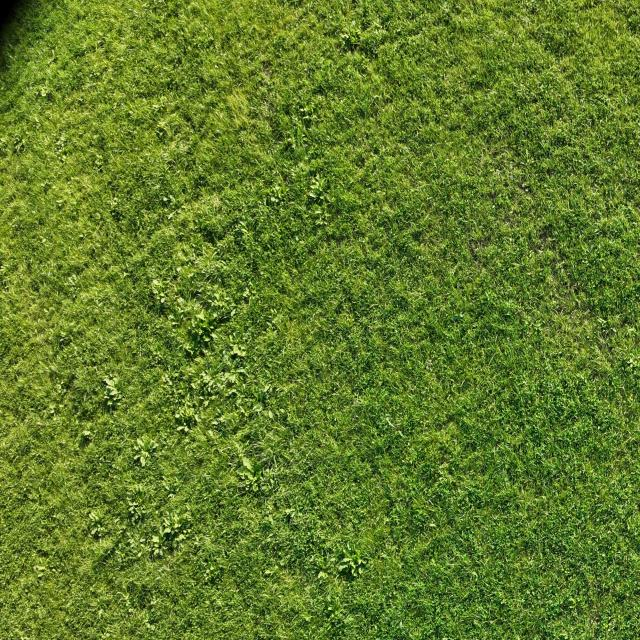rumex: (423, 1, 543, 106), (33, 163, 118, 272), (200, 78, 260, 157), (312, 538, 372, 613), (232, 450, 278, 501), (187, 249, 228, 297), (342, 21, 383, 61), (194, 544, 230, 588), (170, 100, 203, 142), (63, 171, 100, 207), (198, 289, 233, 322), (130, 435, 158, 473), (263, 178, 290, 215), (172, 262, 202, 295), (173, 398, 201, 432), (151, 110, 178, 144), (306, 173, 330, 211), (126, 490, 151, 525), (86, 505, 110, 541), (90, 543, 118, 573), (212, 370, 243, 396), (7, 126, 32, 158), (308, 196, 332, 229), (158, 508, 184, 538), (198, 226, 223, 249), (150, 278, 172, 304), (244, 400, 268, 423), (244, 459, 264, 484), (300, 104, 320, 126), (153, 294, 171, 317), (341, 28, 361, 48), (103, 377, 124, 395), (336, 560, 354, 580), (228, 342, 248, 360), (236, 226, 253, 245), (188, 328, 203, 348), (202, 376, 219, 393), (56, 334, 72, 350), (54, 135, 69, 152), (78, 430, 92, 448), (126, 100, 139, 119), (350, 548, 362, 568), (281, 506, 296, 522), (197, 319, 212, 335), (264, 513, 278, 530), (211, 414, 226, 429), (182, 341, 196, 357), (518, 182, 533, 196), (195, 309, 208, 324), (150, 543, 162, 559), (486, 351, 496, 370), (94, 155, 105, 172), (221, 350, 232, 367), (450, 314, 466, 325), (384, 416, 397, 429), (153, 125, 165, 139), (66, 274, 78, 288), (128, 537, 140, 551), (160, 524, 172, 538), (317, 570, 329, 584), (46, 52, 56, 68), (235, 368, 249, 379), (134, 452, 145, 466), (440, 2, 450, 16), (176, 424, 190, 434), (236, 407, 248, 418), (146, 440, 158, 451), (90, 525, 100, 538), (134, 547, 144, 560), (263, 567, 276, 577), (260, 103, 270, 116), (302, 450, 312, 463), (261, 384, 272, 395), (210, 331, 221, 342), (272, 184, 282, 196), (242, 288, 252, 300), (326, 602, 336, 614), (190, 382, 202, 392), (160, 373, 170, 385), (106, 401, 115, 414), (46, 406, 56, 417), (299, 131, 309, 142), (206, 430, 217, 440), (598, 317, 610, 326), (34, 563, 46, 572), (39, 86, 48, 98), (370, 93, 382, 102), (301, 613, 313, 622), (136, 484, 146, 494), (109, 198, 118, 208), (167, 210, 176, 220), (430, 558, 438, 569), (34, 116, 41, 128), (238, 220, 247, 229), (627, 356, 635, 366), (307, 192, 317, 200), (167, 492, 175, 502), (168, 195, 176, 204), (269, 196, 278, 204), (292, 232, 300, 241), (349, 20, 356, 30), (356, 566, 363, 576), (162, 152, 170, 160), (161, 196, 169, 204), (428, 521, 436, 529), (175, 411, 182, 420), (227, 461, 236, 468), (98, 609, 104, 619), (347, 540, 352, 552), (306, 68, 312, 78), (150, 598, 157, 606), (214, 110, 221, 118), (0, 136, 7, 144), (151, 104, 160, 110), (193, 260, 202, 266), (50, 48, 55, 58), (176, 266, 182, 274), (427, 361, 432, 370), (509, 209, 515, 216), (624, 96, 628, 106)
